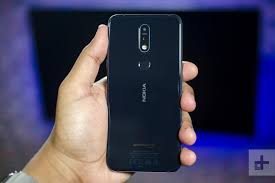nokia: (103, 9, 185, 171)
